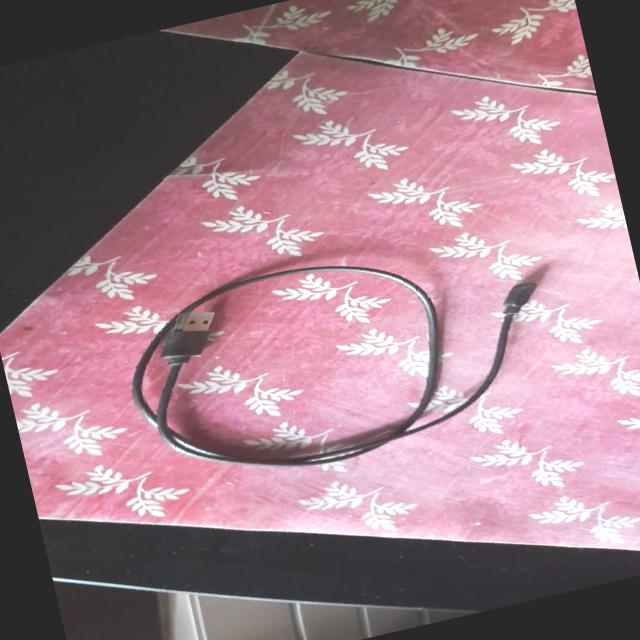Charger - Recyclable: (81, 198, 585, 512)
